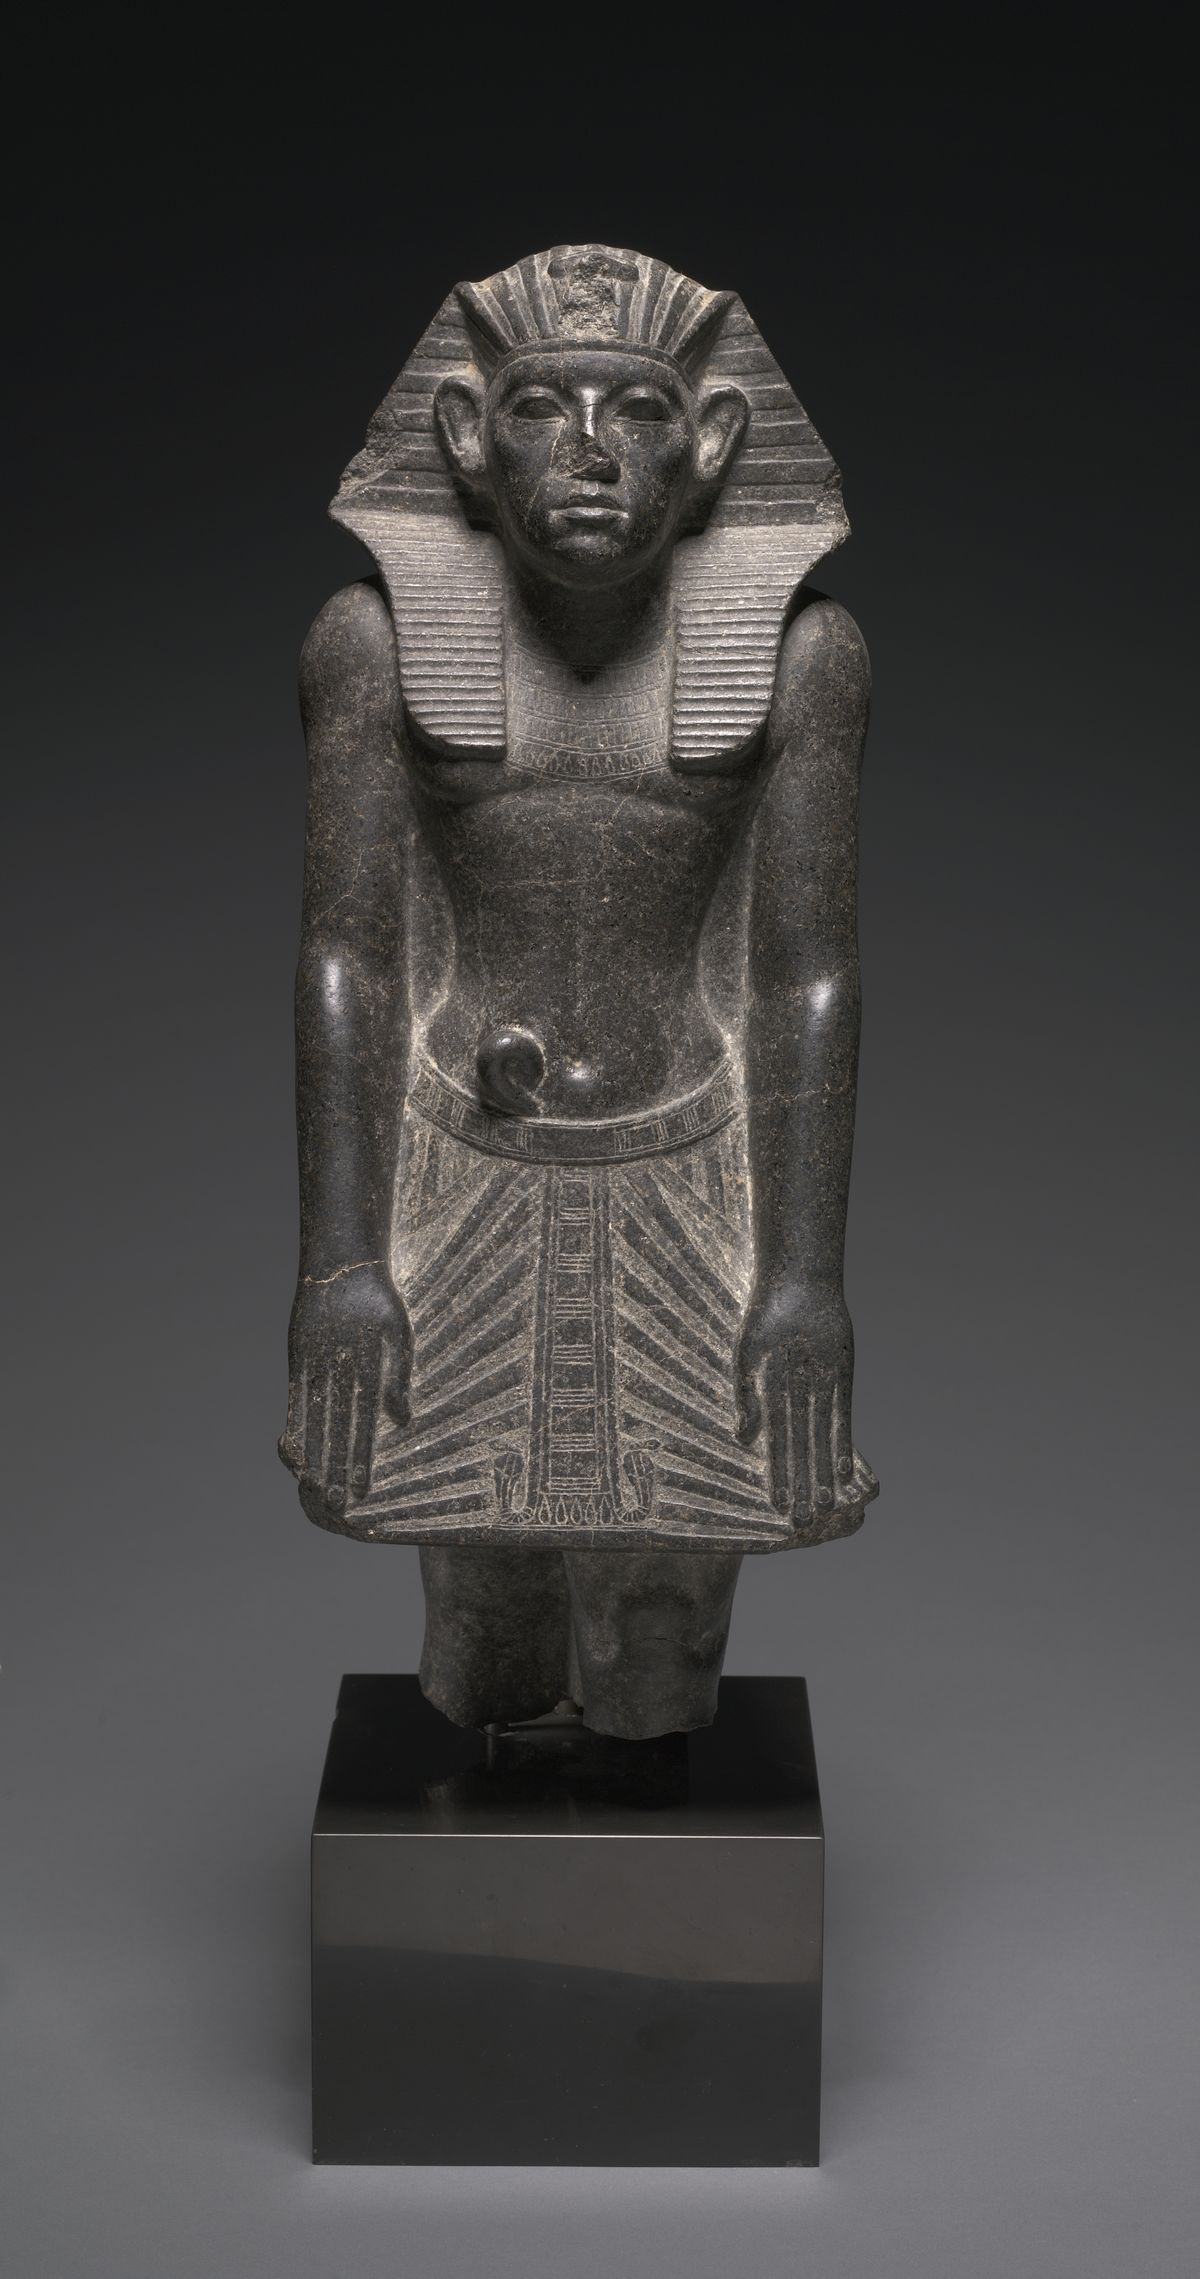person-like: (255, 210, 897, 1783)
